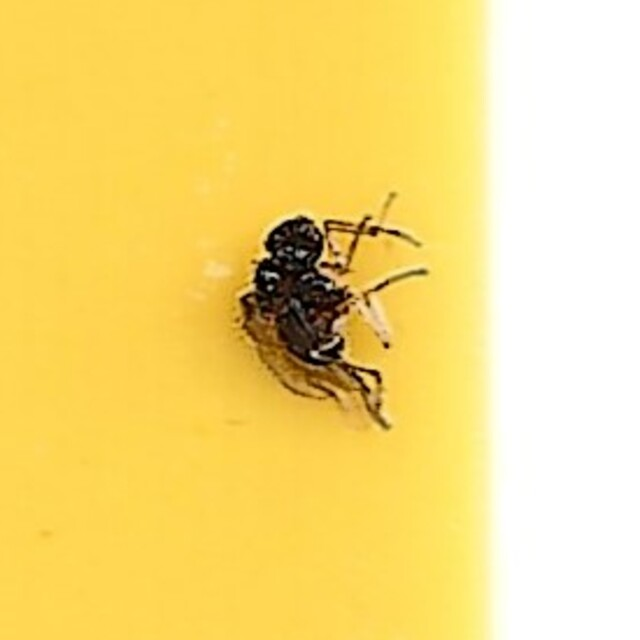Brachycera: (233, 211, 407, 429)
